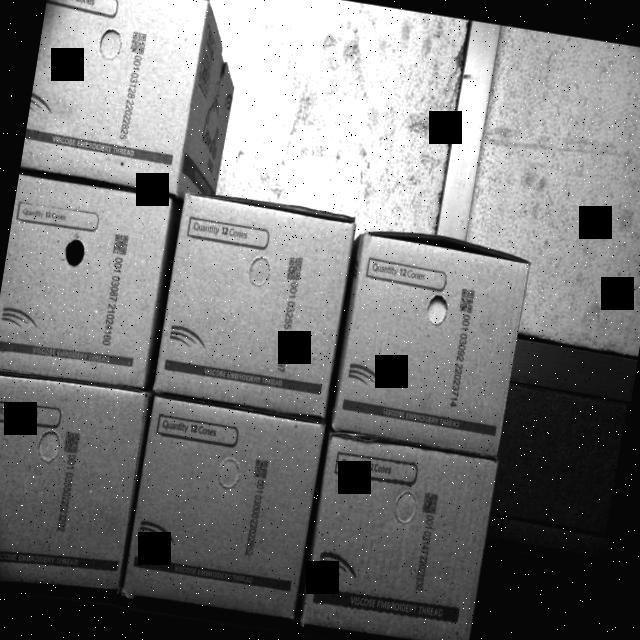box: (116, 394, 331, 638), (148, 188, 362, 424), (326, 228, 534, 458), (0, 168, 177, 395), (302, 439, 497, 640), (20, 0, 209, 190), (0, 372, 150, 604)
